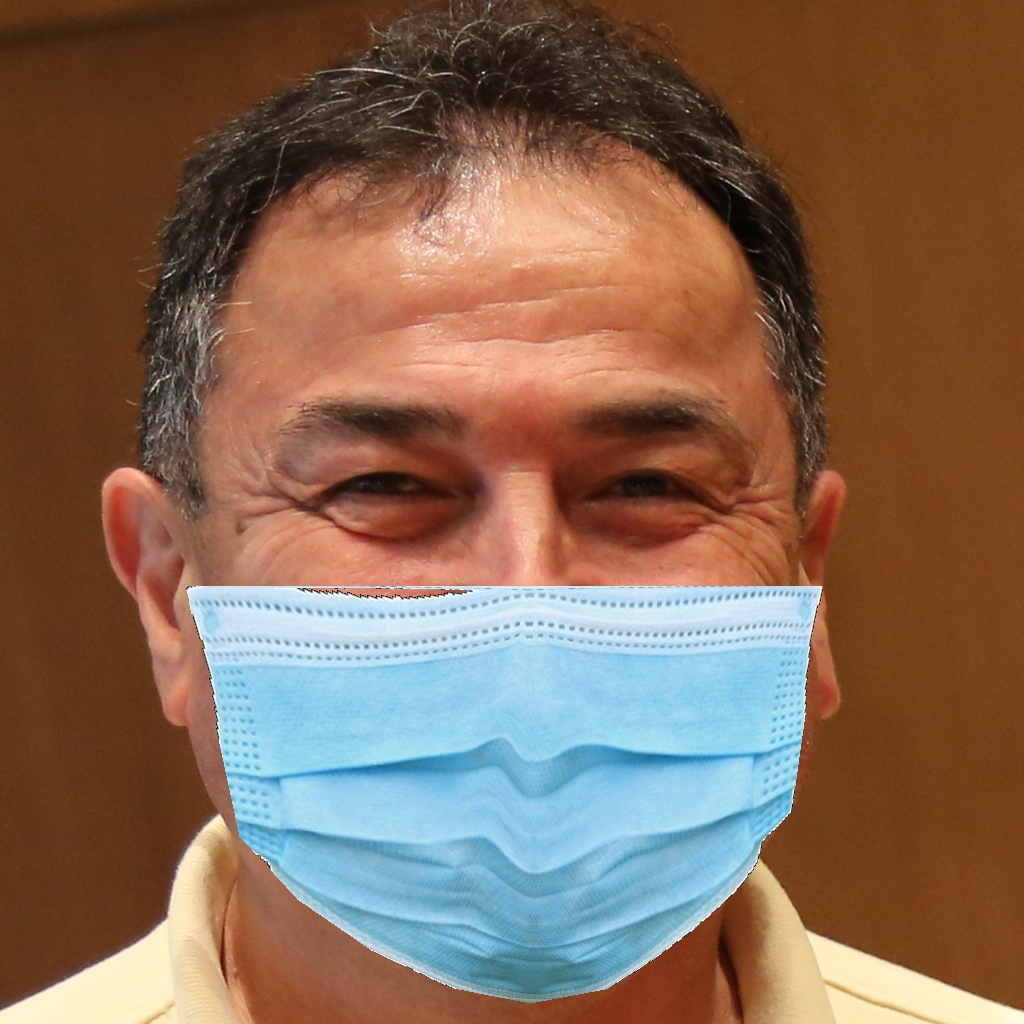with_mask: (213, 391, 797, 994)
